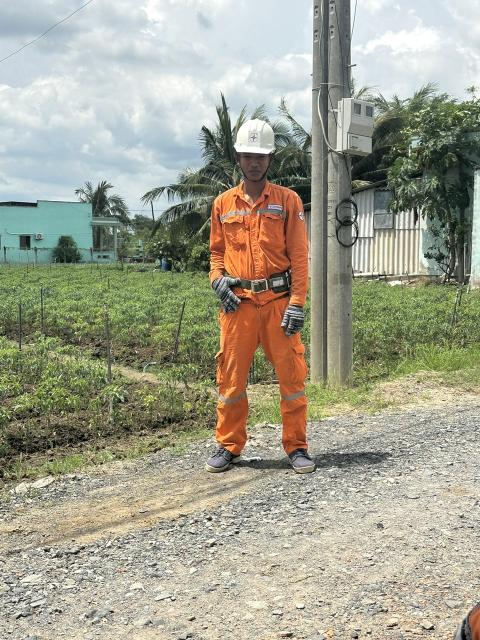gloves: (202, 277, 243, 315), (275, 305, 310, 344)
harness: (222, 266, 301, 295)
helmet: (226, 117, 290, 164)
shoes: (188, 442, 249, 478), (280, 440, 326, 479)
